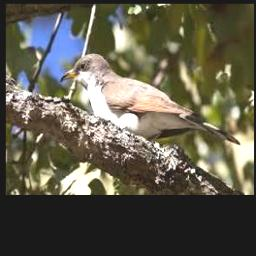Cuckoo: (59, 53, 240, 146)
